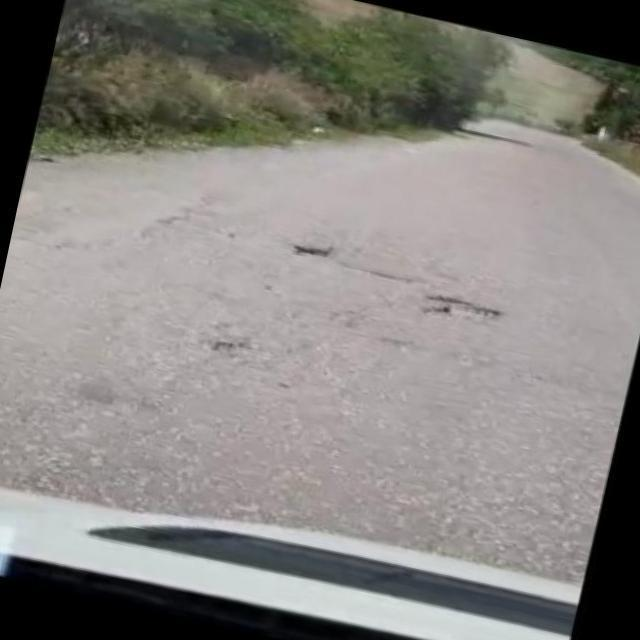Pothole: (421, 295, 504, 318), (292, 245, 332, 257)
